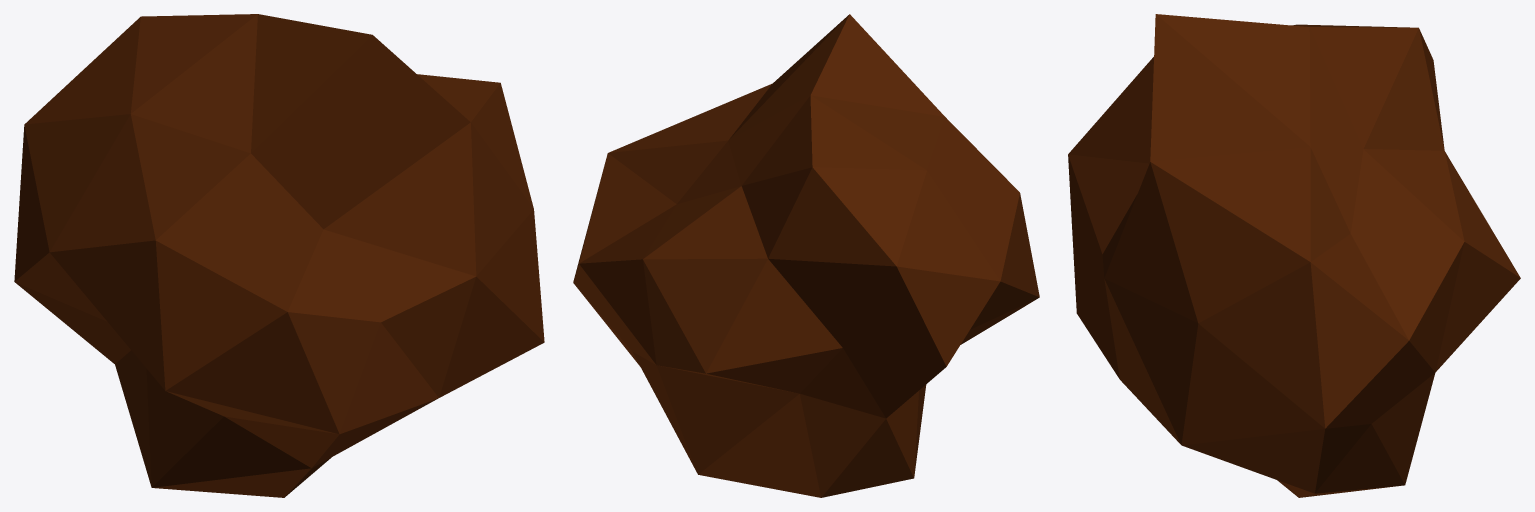
The picture shows the model from 3 angles, left to right: view 1: azimuth 30°, elevation 25°; view 2: azimuth 150°, elevation 25°; view 3: azimuth 270°, elevation 25°; orthographic projection. The views are drawn at different scales.
Parts seen in each view (by area): view 1: forest36_3; view 2: forest36_3; view 3: forest36_3.
Part boxes in pixels (x1,y1,x2,y2): forest36_3: [14, 14, 544, 497]; forest36_3: [573, 14, 1039, 497]; forest36_3: [1068, 14, 1520, 497].
Size of the model in its own units: 147 by 122 by 146.
